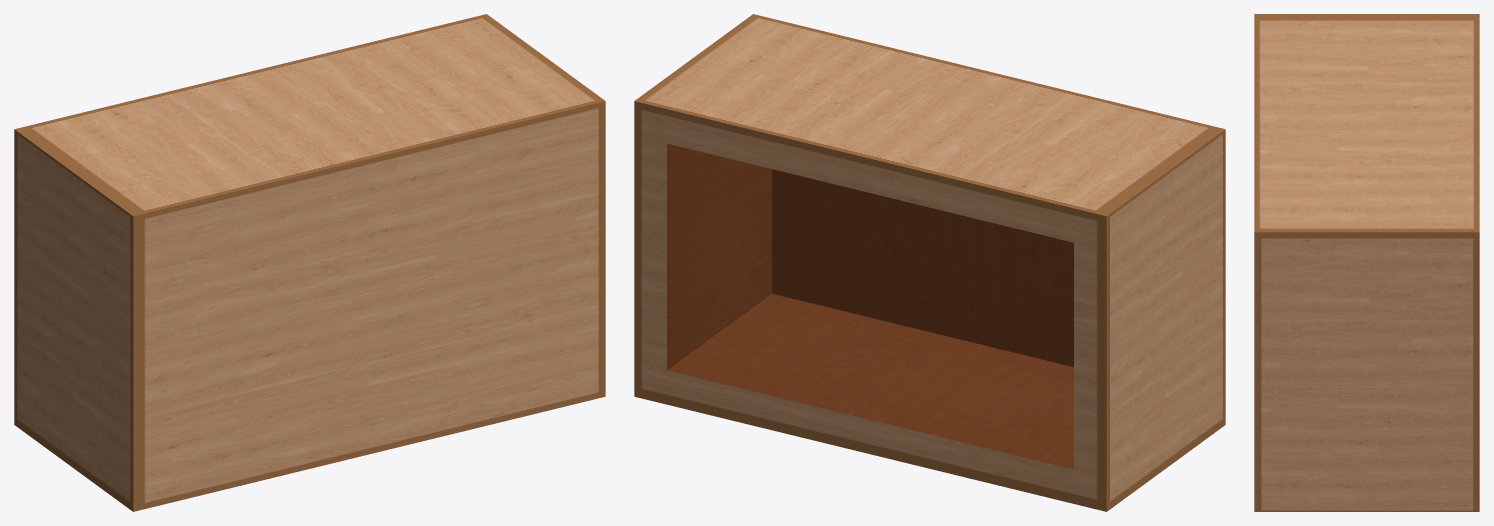
Rendered from Cupboard_Open_Body.fbx.
The picture shows the model from 3 angles, left to right: view 1: azimuth 30°, elevation 25°; view 2: azimuth 150°, elevation 25°; view 3: azimuth 270°, elevation 25°; orthographic projection. The views are drawn at different scales.
Visible parts, largest first — view 1: Cupboard1; view 2: Cupboard1; view 3: Cupboard1.
Boxes of the visible parts, left/top/right/bottom form: Cupboard1: left=14, top=14, right=605, bottom=511; Cupboard1: left=634, top=14, right=1225, bottom=511; Cupboard1: left=1254, top=14, right=1479, bottom=511.
Size of the model in its own units: 131 by 78.63 by 57.36.
